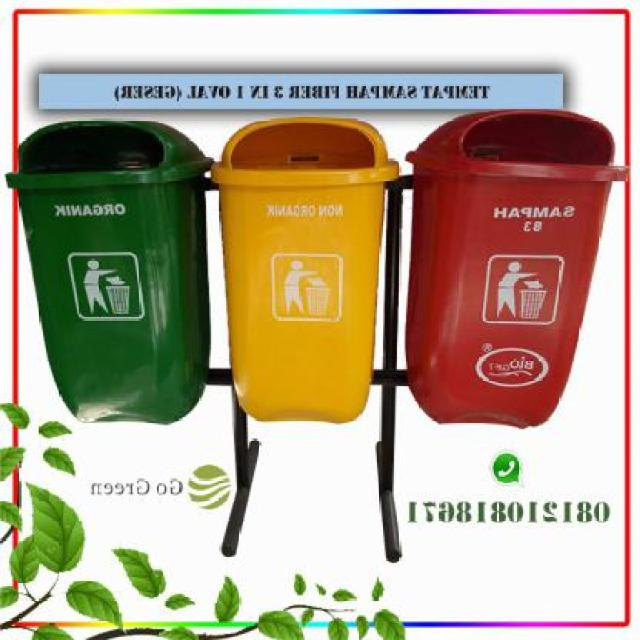garbage container: (409, 102, 626, 440), (1, 116, 218, 432), (207, 112, 404, 439)
